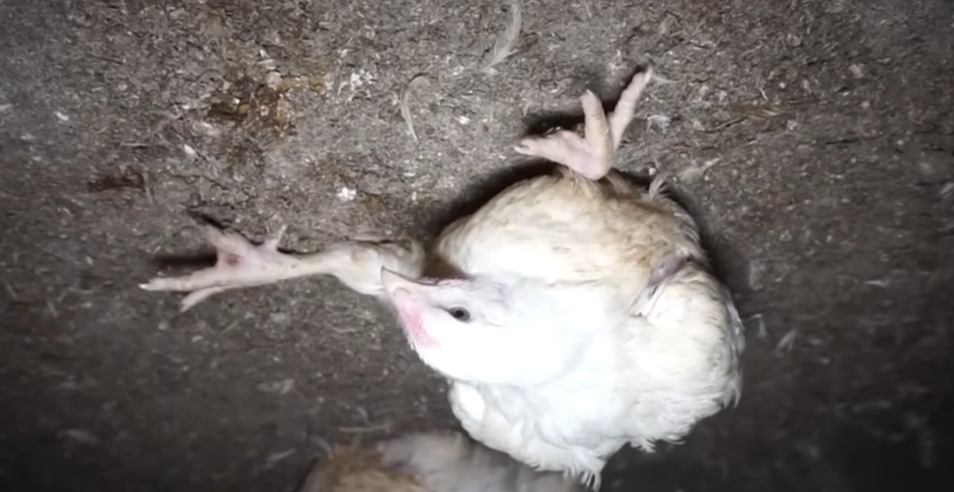Unhealthy: (140, 57, 804, 486)
